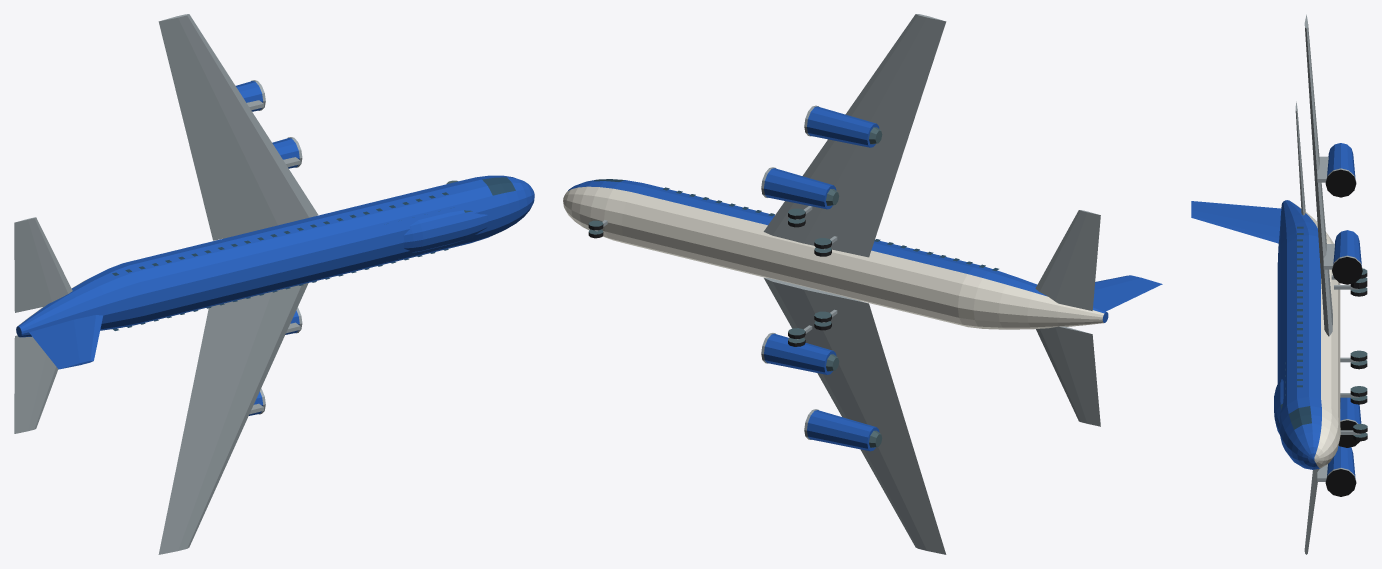
The picture shows the model from 3 angles, left to right: view 1: azimuth 30°, elevation 25°; view 2: azimuth 150°, elevation 25°; view 3: azimuth 270°, elevation 25°; orthographic projection.
Parts seen in each view (by area): view 1: default_fuselage, default_wing1, default_wing-1, default_tailplane1, default_tailplane-1, default_fin1, default_upper_deck; view 2: default_fuselage, default_wing1, default_wing-1, default_tailplane1, default_tailplane-1, default_engine6.6-1, default_engine6.61, default_engine3.61, default_engine3.6-1, default_fin1; view 3: default_fuselage, default_fin1, default_wing1, default_engine6.61, default_engine3.61, default_engine6.6-1, default_engine3.61_lip, default_engine3.6-1, default_wing-1, default_engine6.6-1_lip, default_windows1, default_tailplane1 (+5 smaller).
Boxes of the visible parts, box(x1,y1,x2,y2) form: default_fuselage: box(16, 175, 534, 337); default_wing1: box(158, 14, 318, 240); default_wing-1: box(158, 283, 308, 554); default_tailplane1: box(14, 217, 72, 312); default_tailplane-1: box(14, 335, 58, 433); default_fin1: box(29, 315, 102, 369); default_upper_deck: box(403, 210, 488, 252); default_fuselage: box(563, 179, 1108, 329); default_wing1: box(763, 14, 946, 257); default_wing-1: box(764, 278, 946, 554); default_tailplane1: box(1035, 210, 1100, 310); default_tailplane-1: box(1036, 326, 1100, 426); default_engine6.6-1: box(807, 410, 879, 451); default_engine6.61: box(807, 106, 879, 147); default_engine3.61: box(764, 168, 836, 209); default_engine3.6-1: box(764, 333, 836, 374); default_fin1: box(1093, 275, 1162, 311); default_fuselage: box(1277, 200, 1340, 469); default_fin1: box(1191, 201, 1281, 243); default_wing1: box(1304, 14, 1332, 336); default_engine6.61: box(1326, 143, 1355, 196); default_engine3.61: box(1332, 230, 1362, 284); default_engine6.6-1: box(1326, 445, 1355, 496); default_engine3.61_lip: box(1332, 255, 1362, 284); default_engine3.6-1: box(1339, 397, 1361, 443); default_wing-1: box(1304, 468, 1319, 554); default_engine6.6-1_lip: box(1325, 468, 1356, 496); default_windows1: box(1297, 226, 1303, 387); default_tailplane1: box(1295, 101, 1305, 215).
Bounding box in the file's own units: 24.4 × 23.2 × 7.04.
